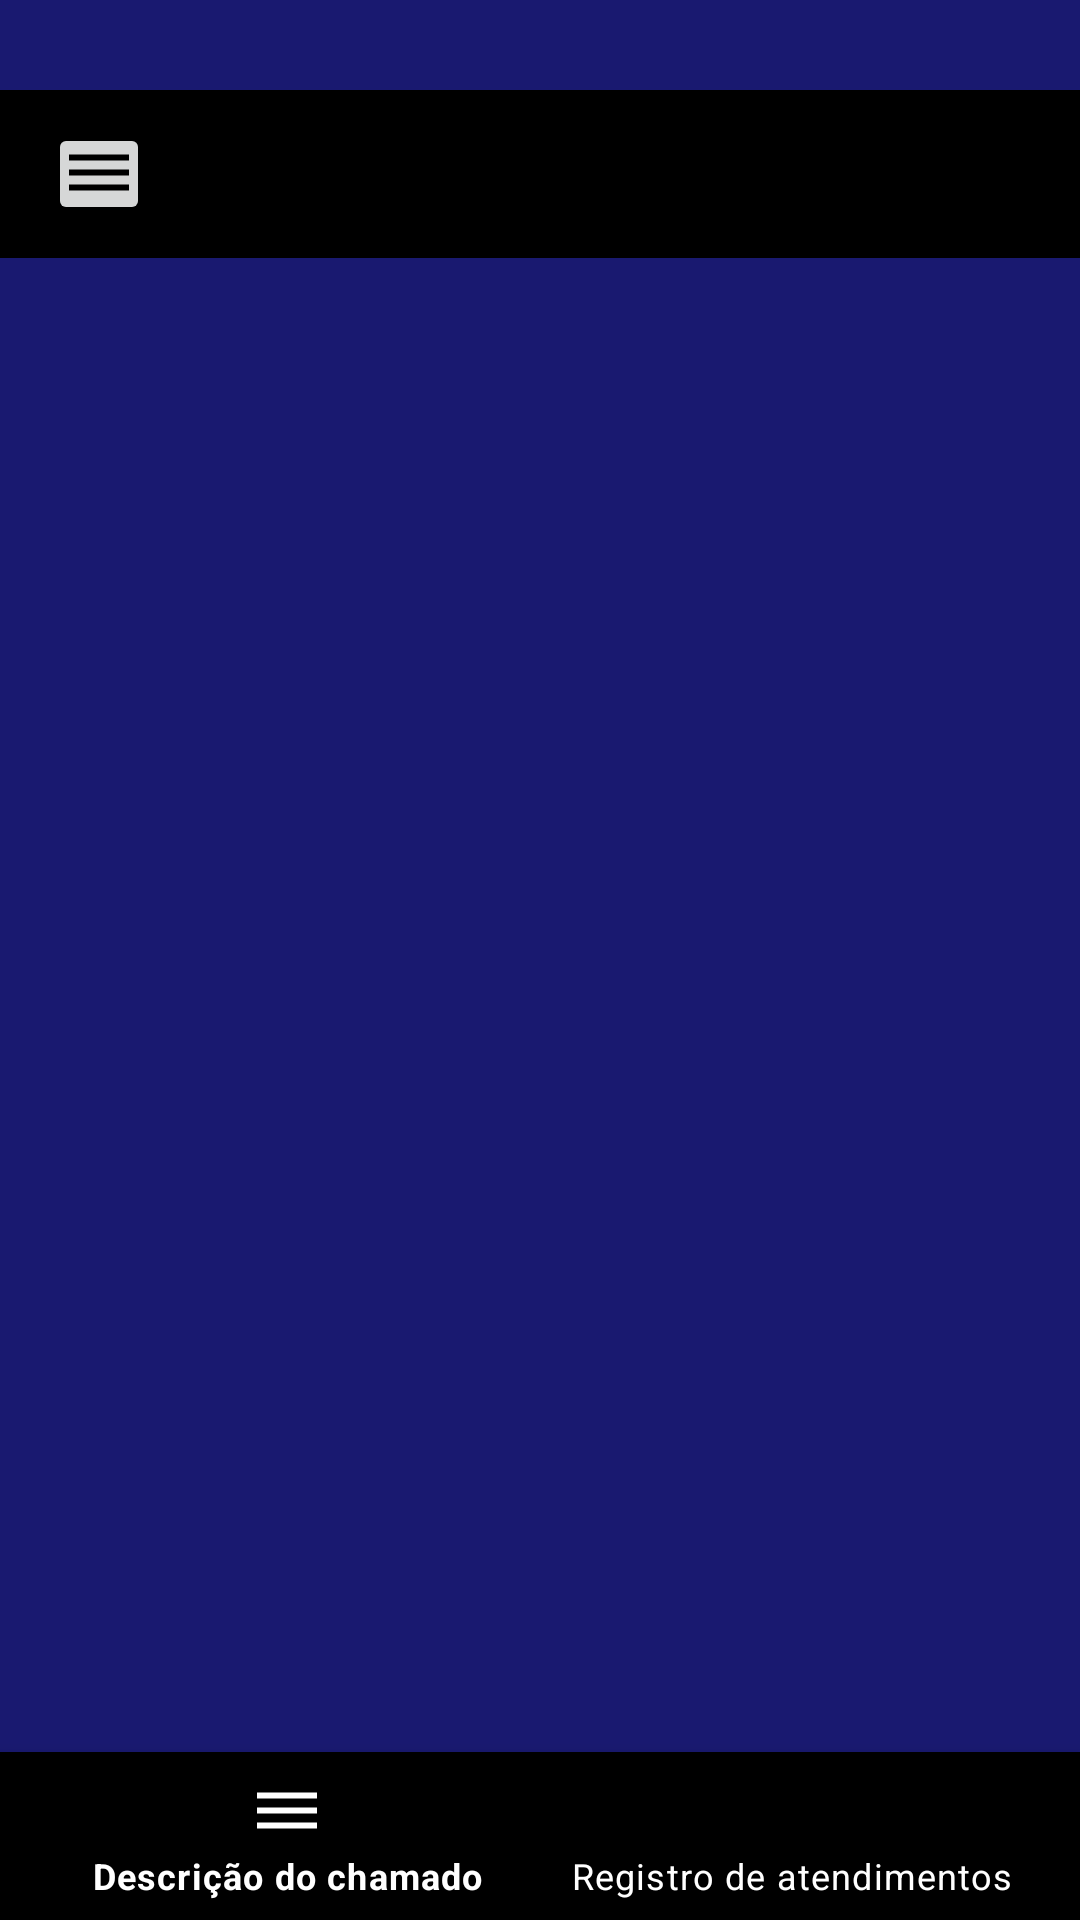

Locate icon controls on the screen. Image size 1080px×1920px, boxes as BBox(x1, y1, x2, y2).
menu: BBox(60, 141, 138, 207)
